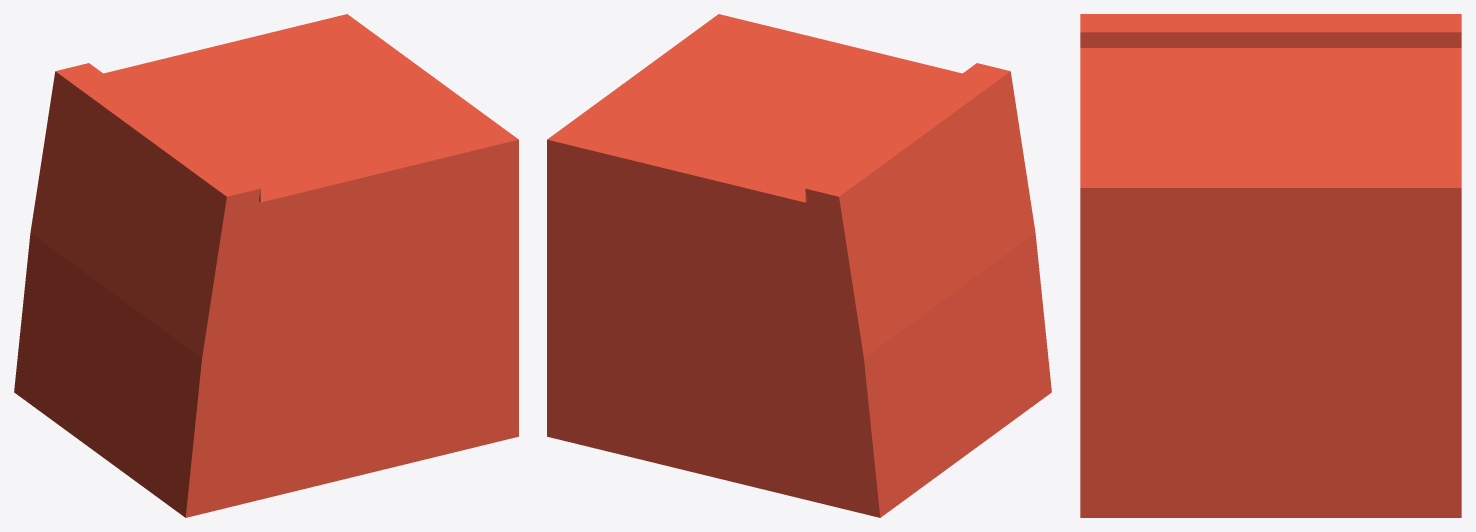
File: Roof Border.fbx
3 renders of one model, left to right at view 1: azimuth 30°, elevation 25°; view 2: azimuth 150°, elevation 25°; view 3: azimuth 270°, elevation 25°, orthographic. The views are drawn at different scales.
Visible parts, largest first — view 1: Roof; view 2: Roof; view 3: Roof.
Part boxes in pixels (x1,y1,x2,y2): Roof: (14,14,518,517); Roof: (547,14,1051,517); Roof: (1080,14,1461,517).
Size of the model in its own units: 224 by 200 by 200.
